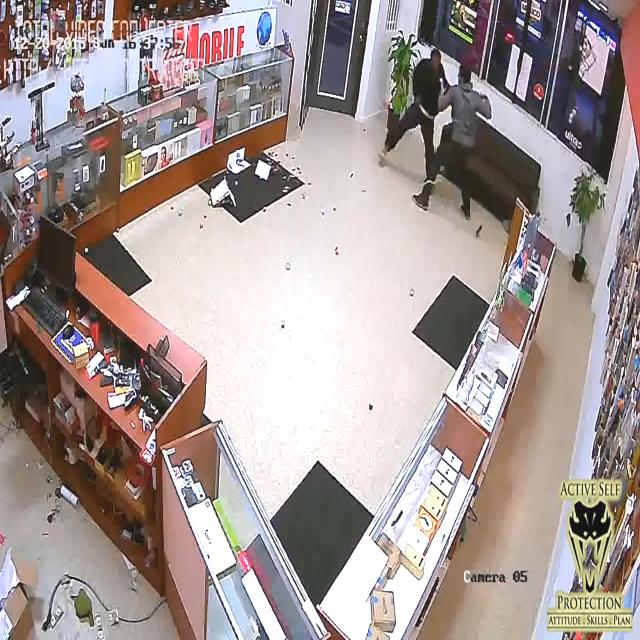fight: (384, 18, 485, 248)
